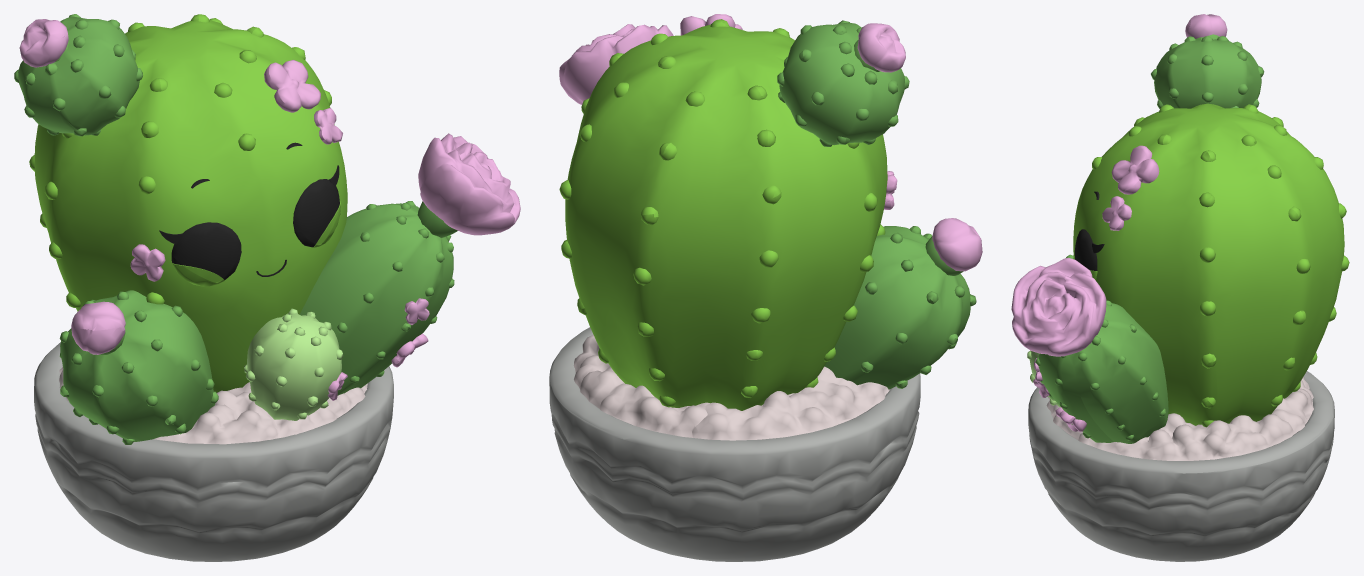
The model's file is cactus.glb.
3 renders of one model, left to right at view 1: azimuth 30°, elevation 25°; view 2: azimuth 150°, elevation 25°; view 3: azimuth 270°, elevation 25°, orthographic. The views are drawn at different scales.
Visible parts, largest first — view 1: Group36608 (×17); view 2: Group36608 (×9); view 3: Group36608 (×10).
Boxes of the visible parts, bbox=[...] form: Group36608 (×17): bbox=[18, 16, 520, 561]; Group36608 (×9): bbox=[549, 14, 982, 561]; Group36608 (×10): bbox=[1011, 14, 1344, 561].
Size of the model in its own units: 2.89 by 3.44 by 2.37.
